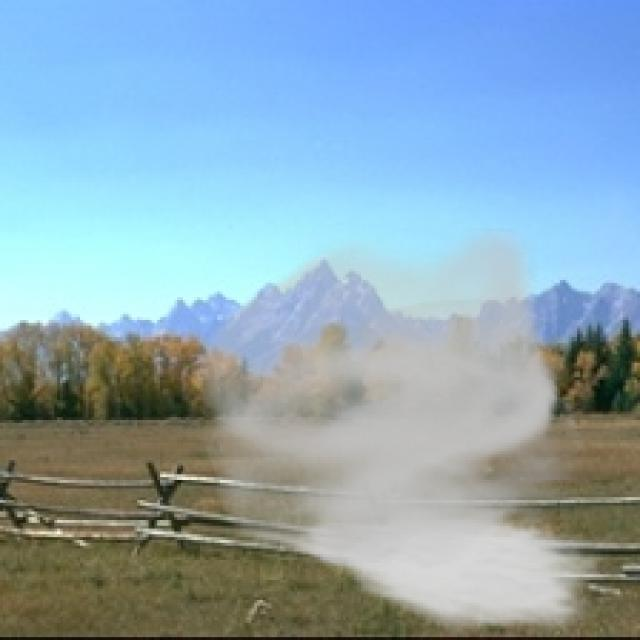Smoke: (182, 228, 608, 638)
